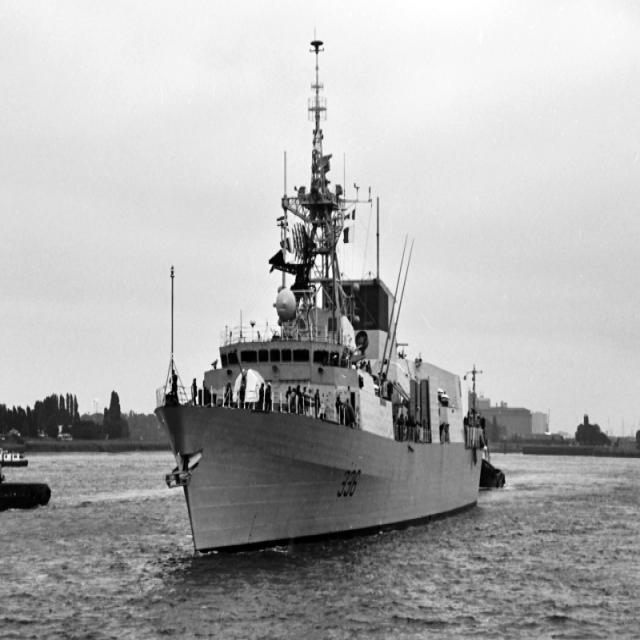Fragata: (149, 33, 493, 565)
